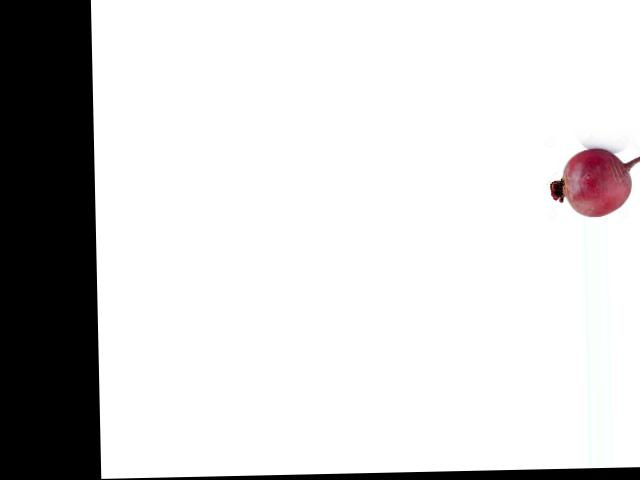beet: (549, 147, 640, 217)
